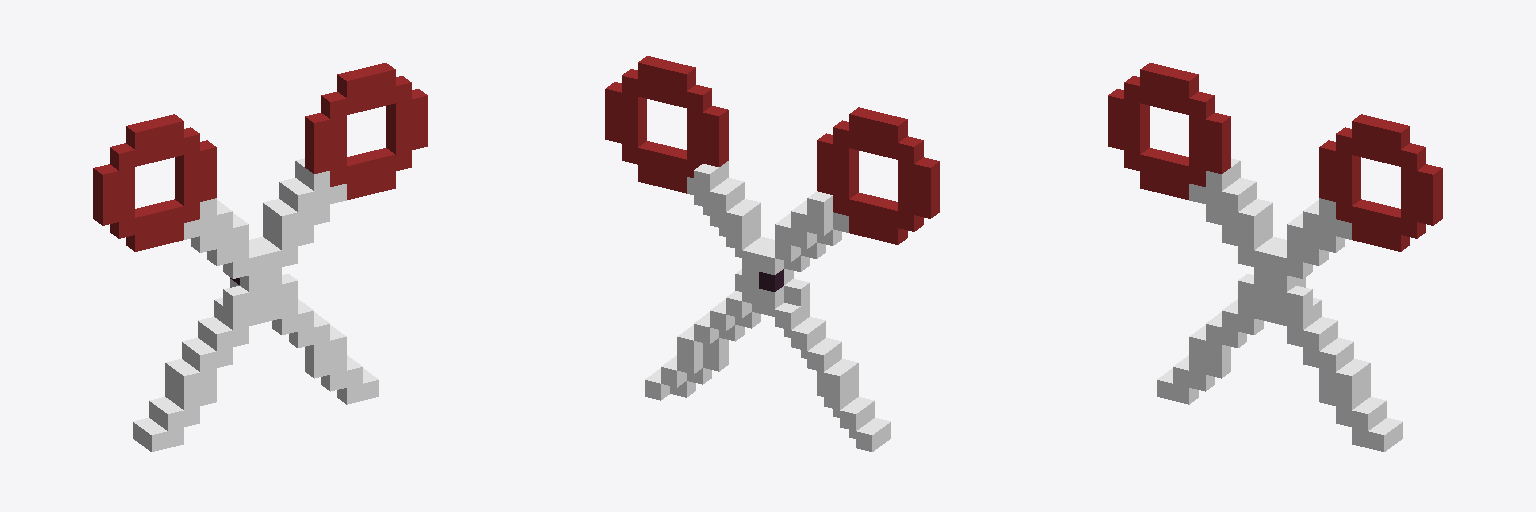
3 renders of one model, left to right at view 1: azimuth 30°, elevation 25°; view 2: azimuth 150°, elevation 25°; view 3: azimuth 330°, elevation 25°, orthographic.
Size of the model in its own units: 20 by 19 by 2.
Materials: 1 (1 with a texture image).